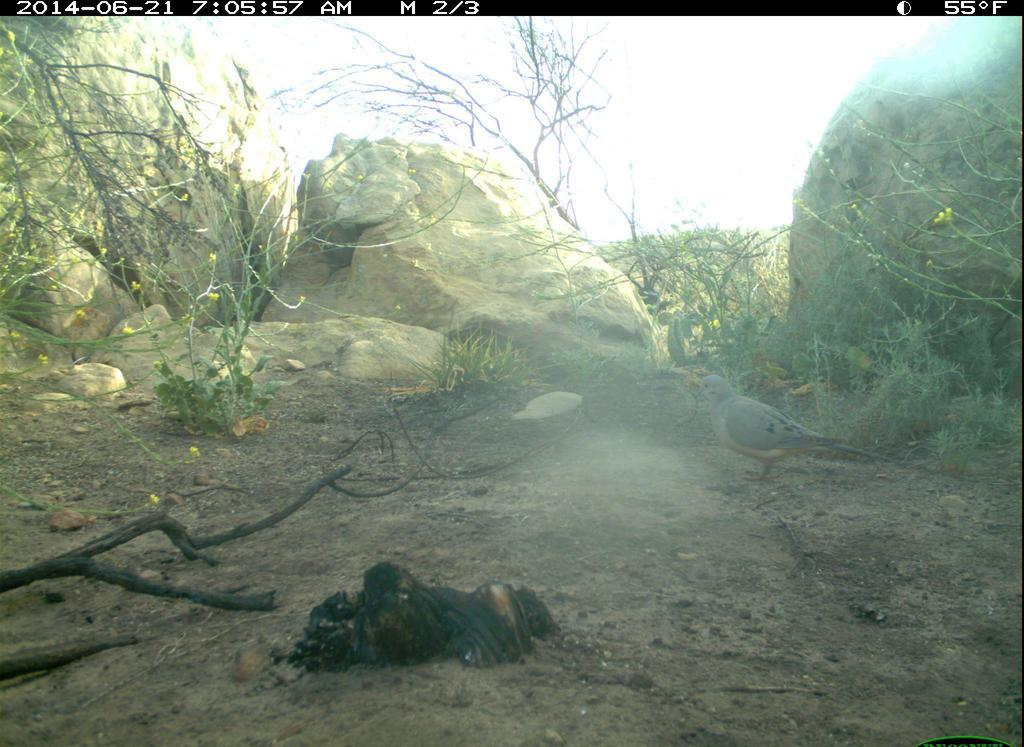bird: (702, 372, 873, 488)
